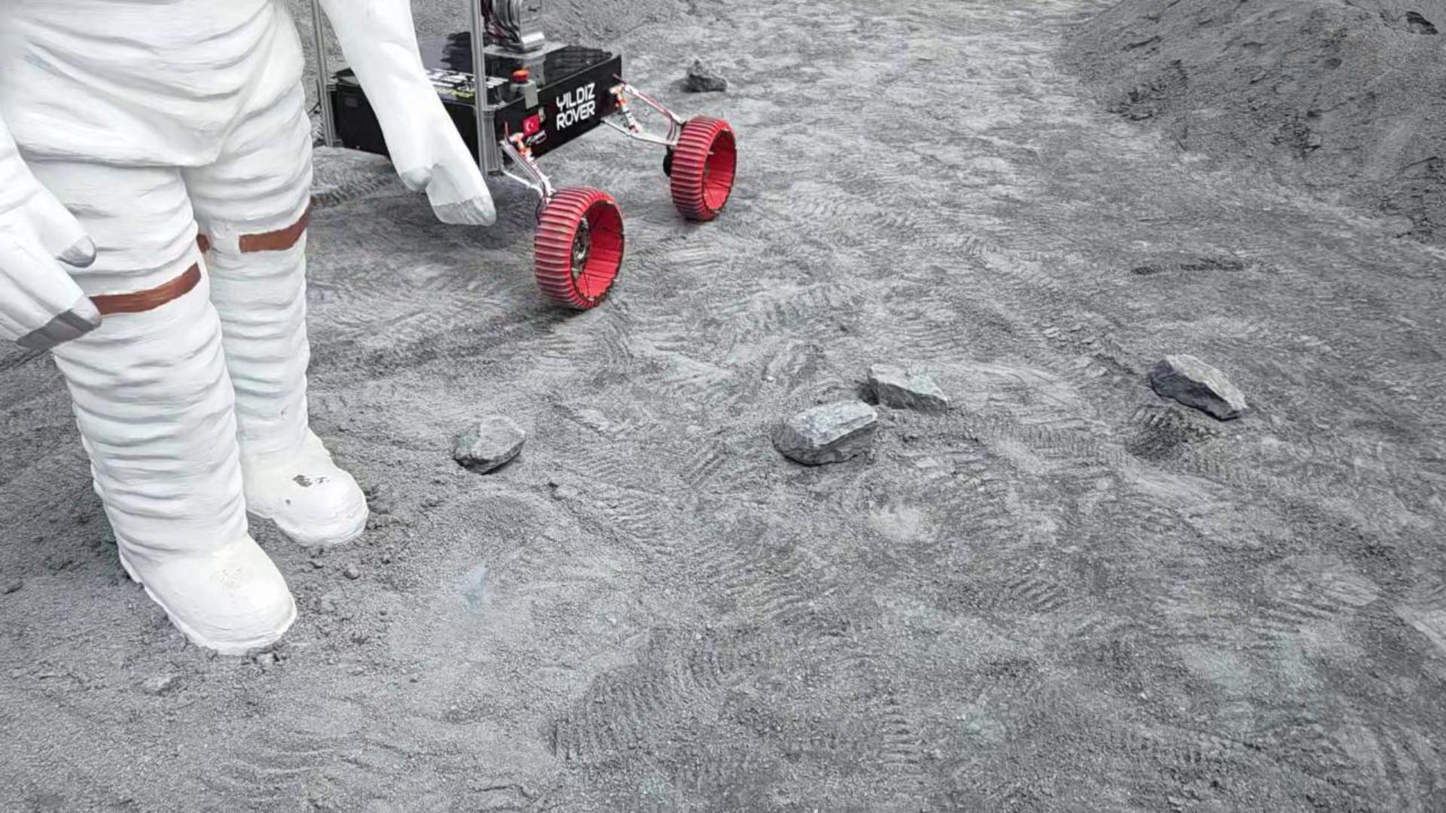rock: (772, 401, 877, 464), (1148, 355, 1246, 419), (452, 414, 525, 473), (868, 364, 948, 412), (683, 59, 728, 91)
